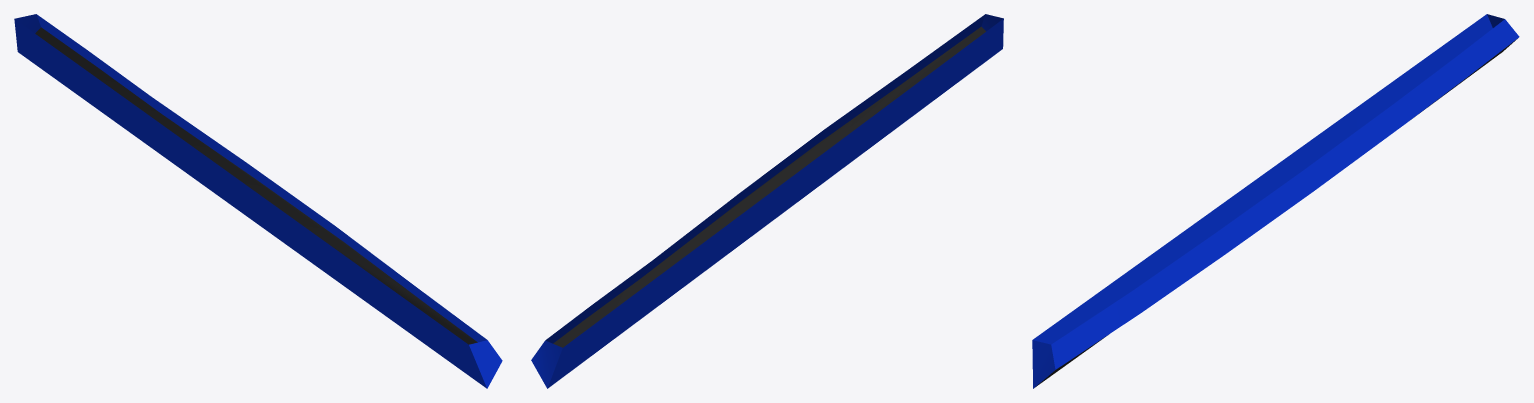
The model's file is Classic_1_Sidepanel_2_R.fbx.
The picture shows the model from 3 angles, left to right: view 1: azimuth 30°, elevation 25°; view 2: azimuth 150°, elevation 25°; view 3: azimuth 330°, elevation 25°; orthographic projection. The views are drawn at different scales.
Visible parts, largest first — view 1: Classic_1_Sidepanel_2_R; view 2: Classic_1_Sidepanel_2_R; view 3: Classic_1_Sidepanel_2_R.
Part boxes in pixels (left/top/right/bottom): Classic_1_Sidepanel_2_R: left=14, top=14, right=502, bottom=388; Classic_1_Sidepanel_2_R: left=531, top=14, right=1003, bottom=388; Classic_1_Sidepanel_2_R: left=1032, top=14, right=1519, bottom=388.
Size of the model in its own units: 8.36 by 10.91 by 198.
